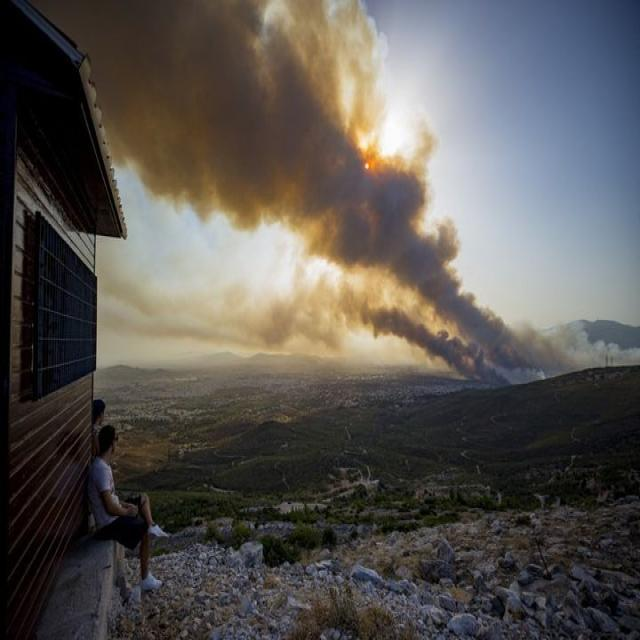Smoke: (119, 8, 345, 166), (300, 173, 420, 270)
